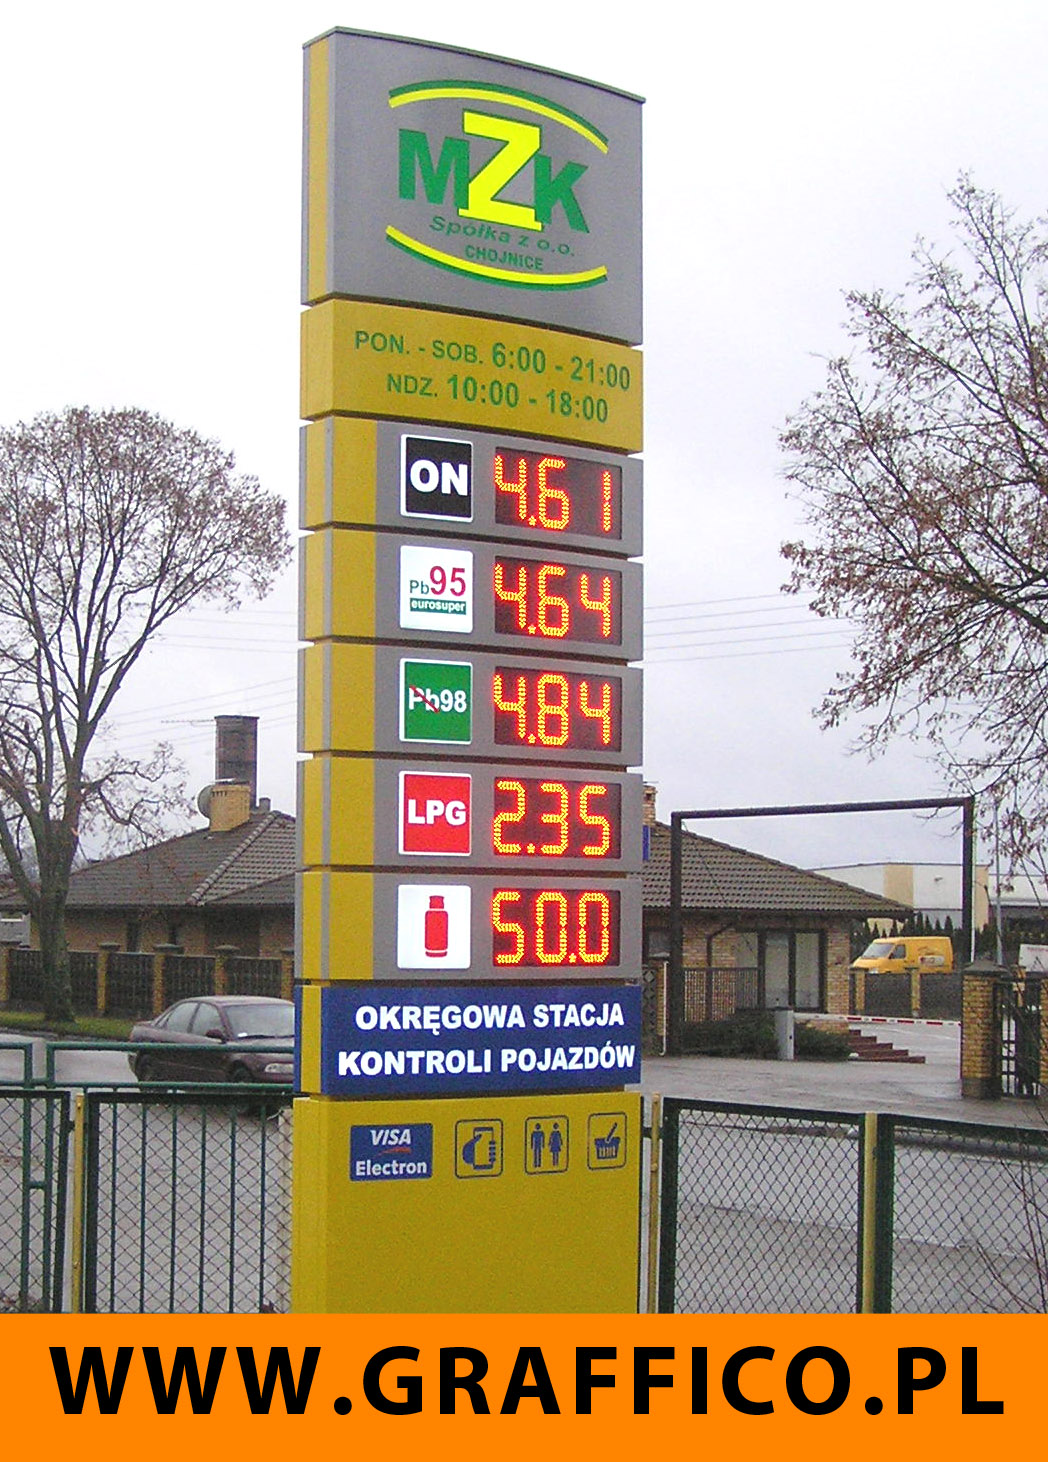LPG: (390, 770, 476, 857)
ON: (399, 433, 475, 521)
PB95: (402, 544, 482, 634)
PB98: (398, 649, 472, 747)
